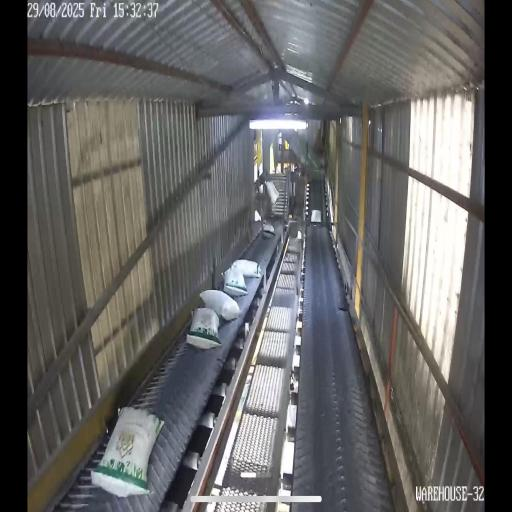c-belt-sack-count: (92, 408, 163, 496), (187, 308, 220, 349), (200, 290, 240, 320), (223, 267, 247, 296), (231, 259, 261, 278)
